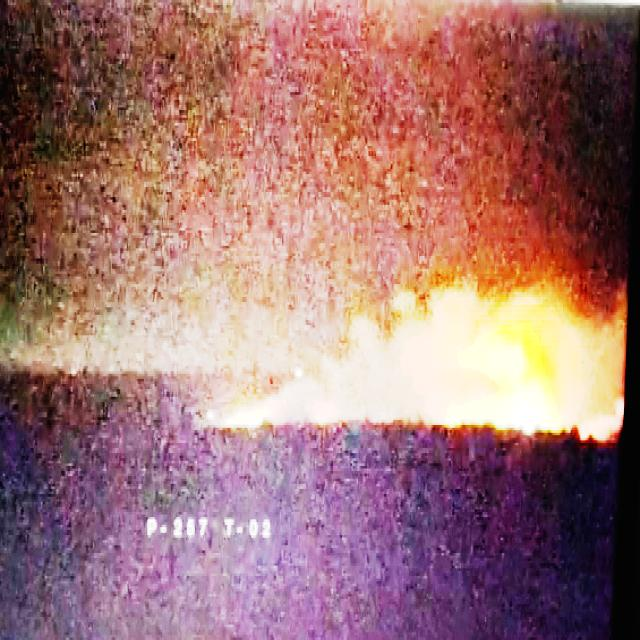asap: (197, 247, 624, 449)
